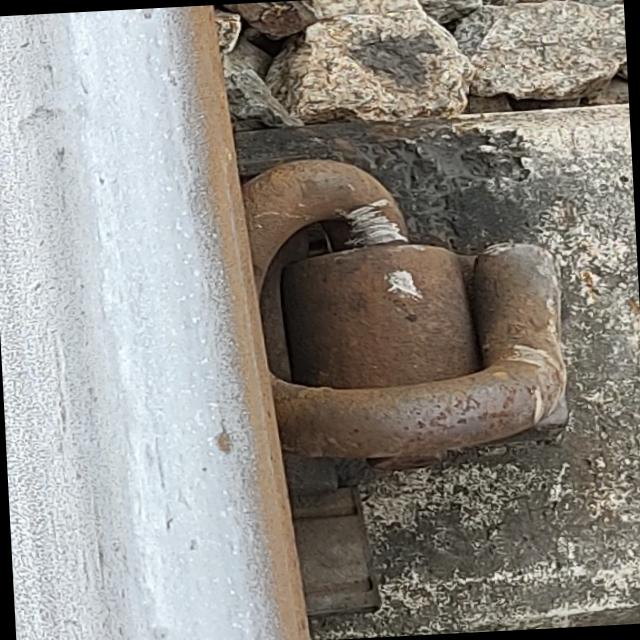track_bolt: (264, 138, 580, 472)
